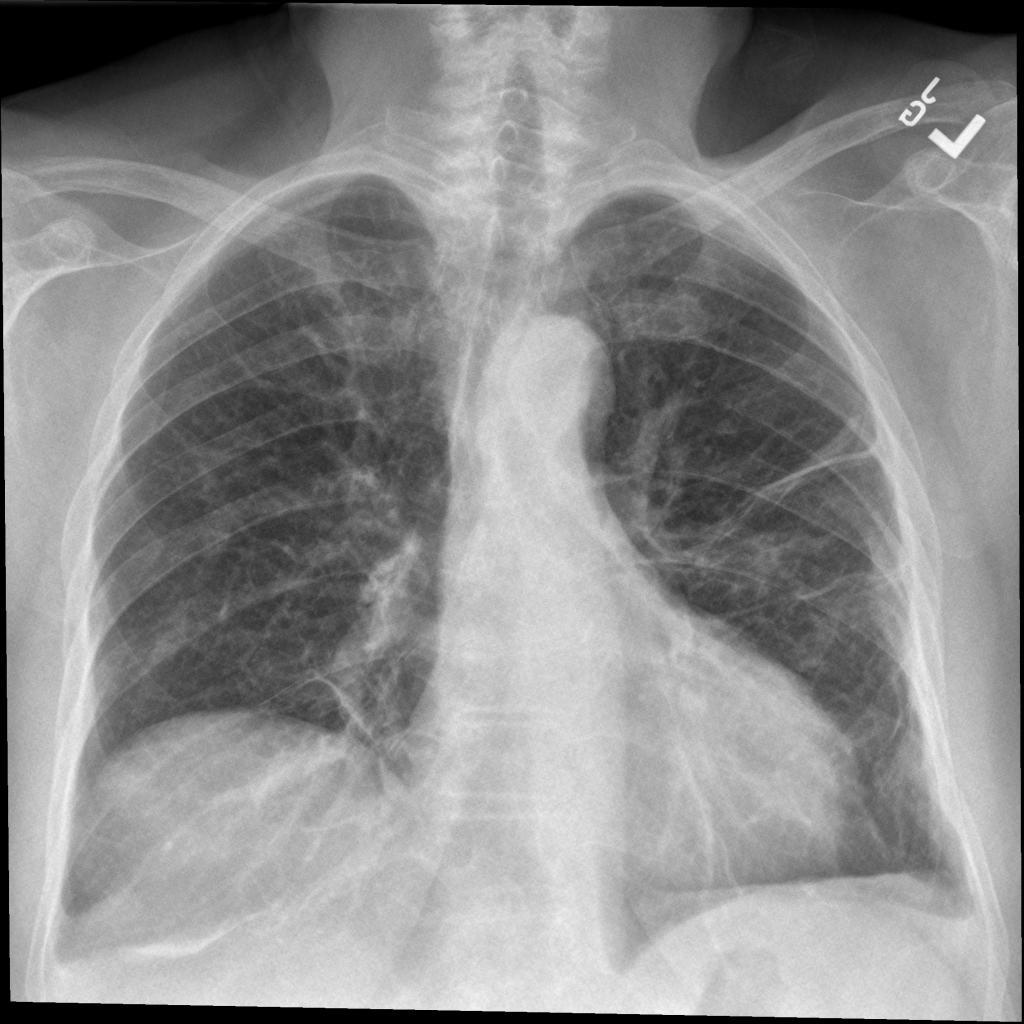Nodule: (65, 371, 87, 408)
